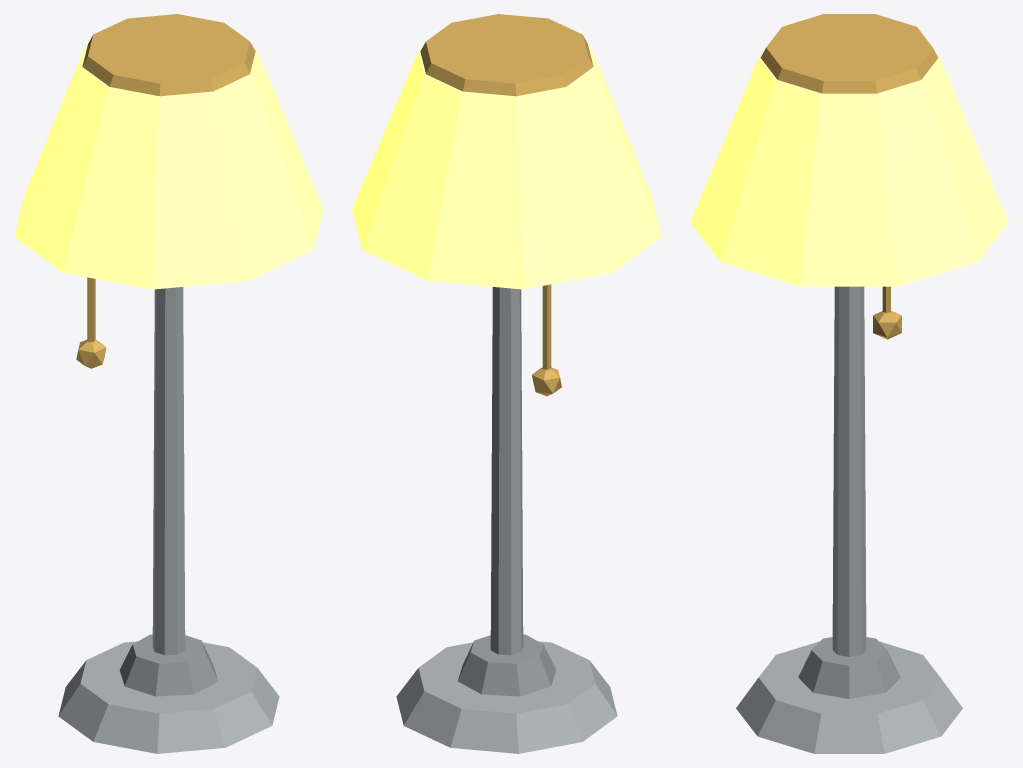
File: BUILD0042_StandingFloorLamp.fbx
The picture shows the model from 3 angles, left to right: view 1: azimuth 30°, elevation 25°; view 2: azimuth 150°, elevation 25°; view 3: azimuth 270°, elevation 25°; orthographic projection.
Visible parts, largest first — view 1: BUILD0042_StandingFloorLamp; view 2: BUILD0042_StandingFloorLamp; view 3: BUILD0042_StandingFloorLamp.
Part boxes in pixels (<box>): BUILD0042_StandingFloorLamp: <box>14,14,323,753</box>; BUILD0042_StandingFloorLamp: <box>352,14,661,753</box>; BUILD0042_StandingFloorLamp: <box>690,14,1008,753</box>.
Size of the model in its own units: 0.7989 by 1.93 by 0.84.
